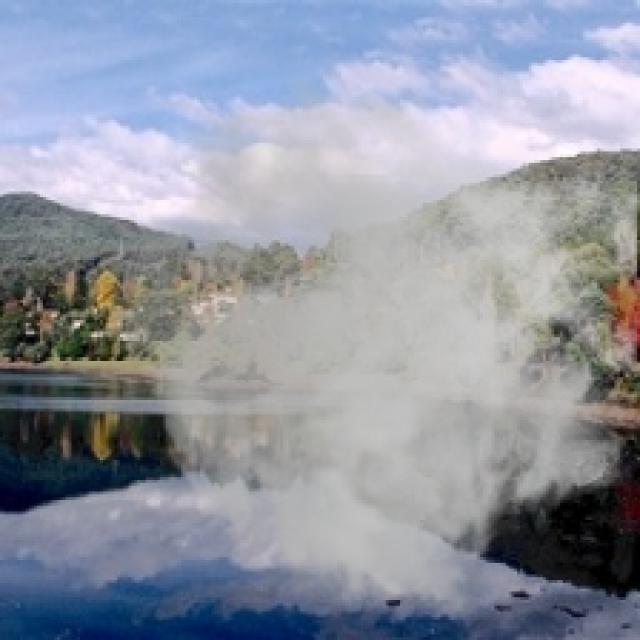smoke: (106, 71, 637, 623)
